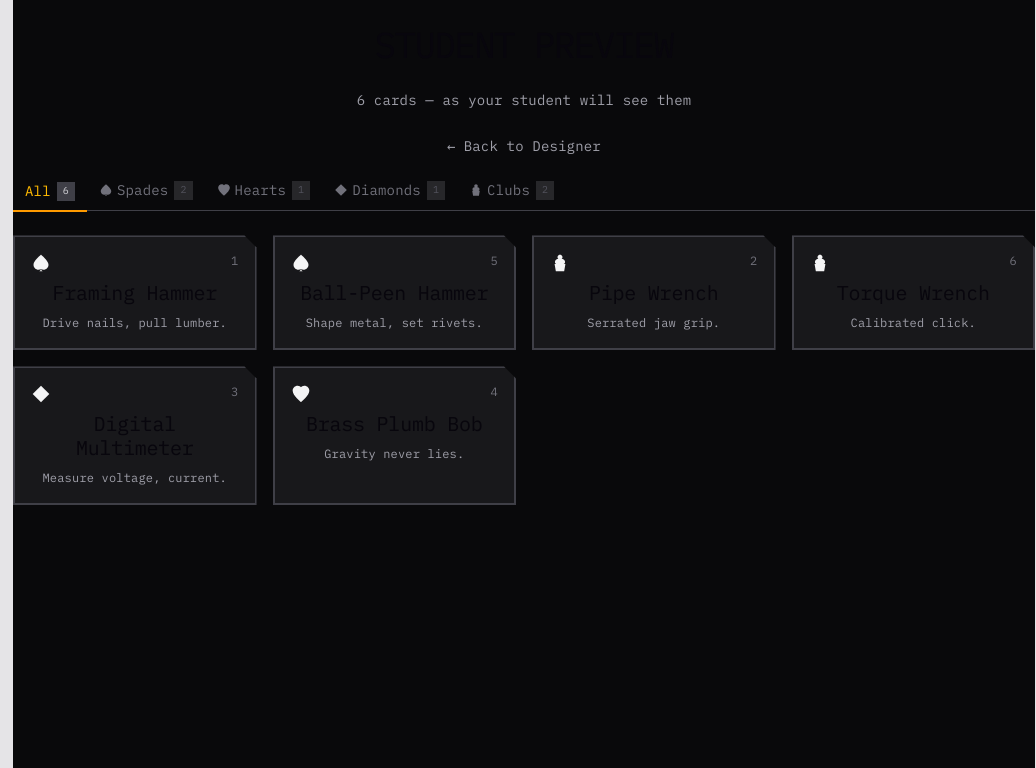
Test: Showcase › filters to spades cards when spades tab is selected
Click the tab "Spades 2". click: (146, 191)
box: [87,172,205,210]
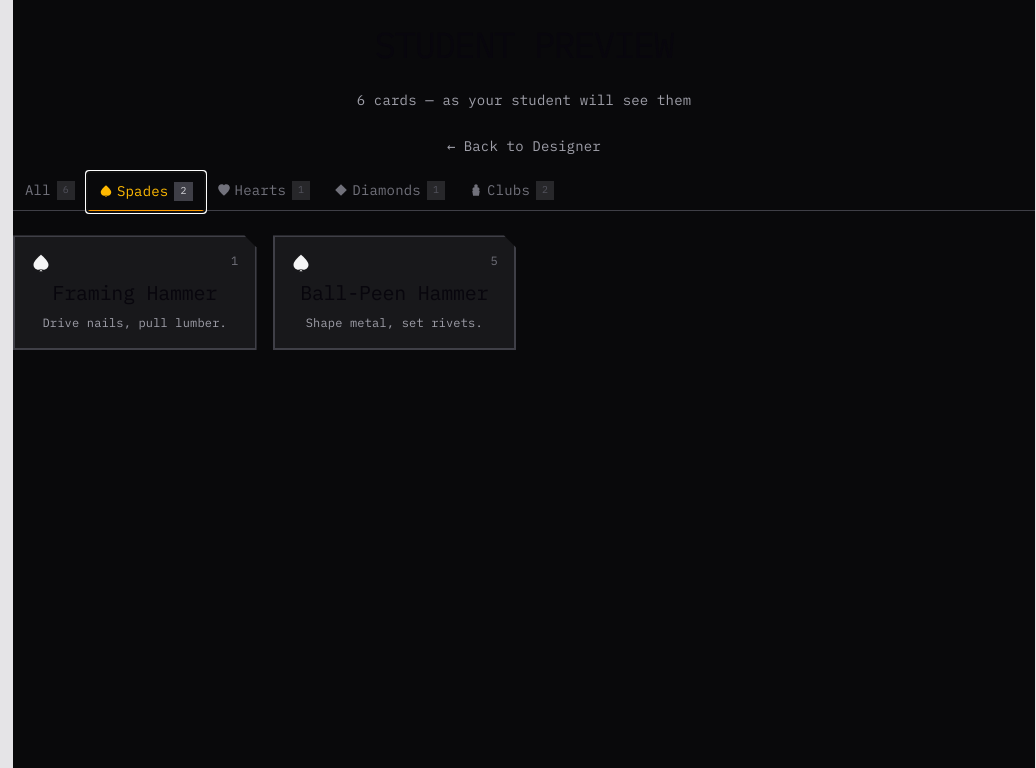
Check: the number of list items is 2, box [13,235,256,350]; [272,235,516,350]
